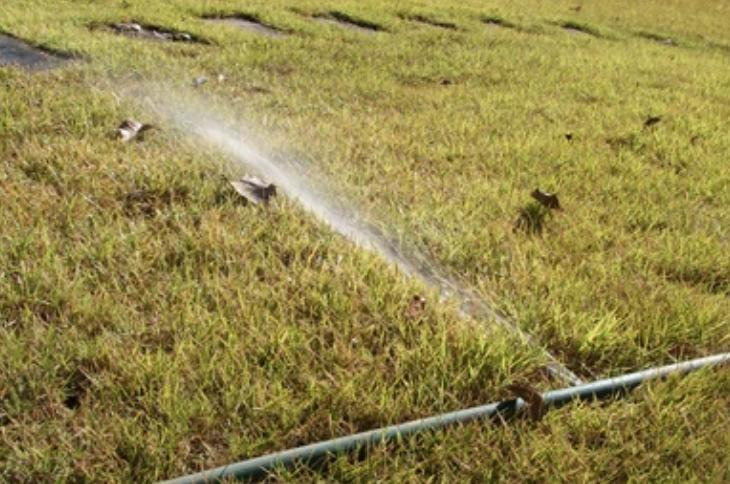pipe burst: (150, 98, 588, 388)
